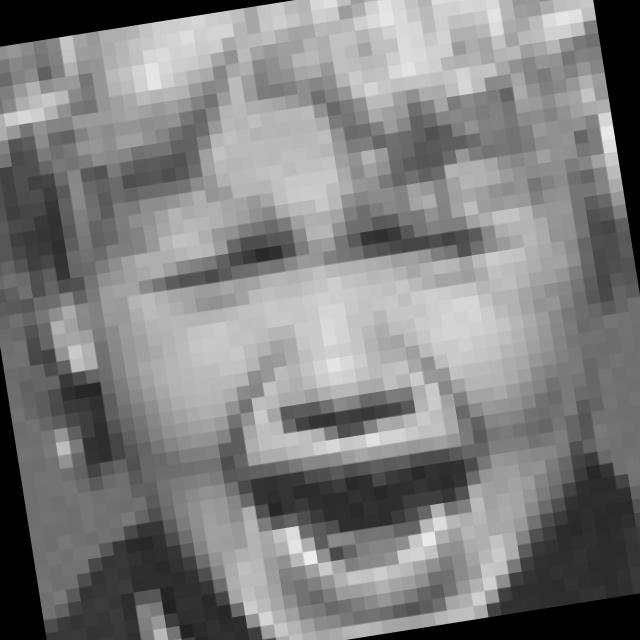sad: (118, 163, 569, 640)
